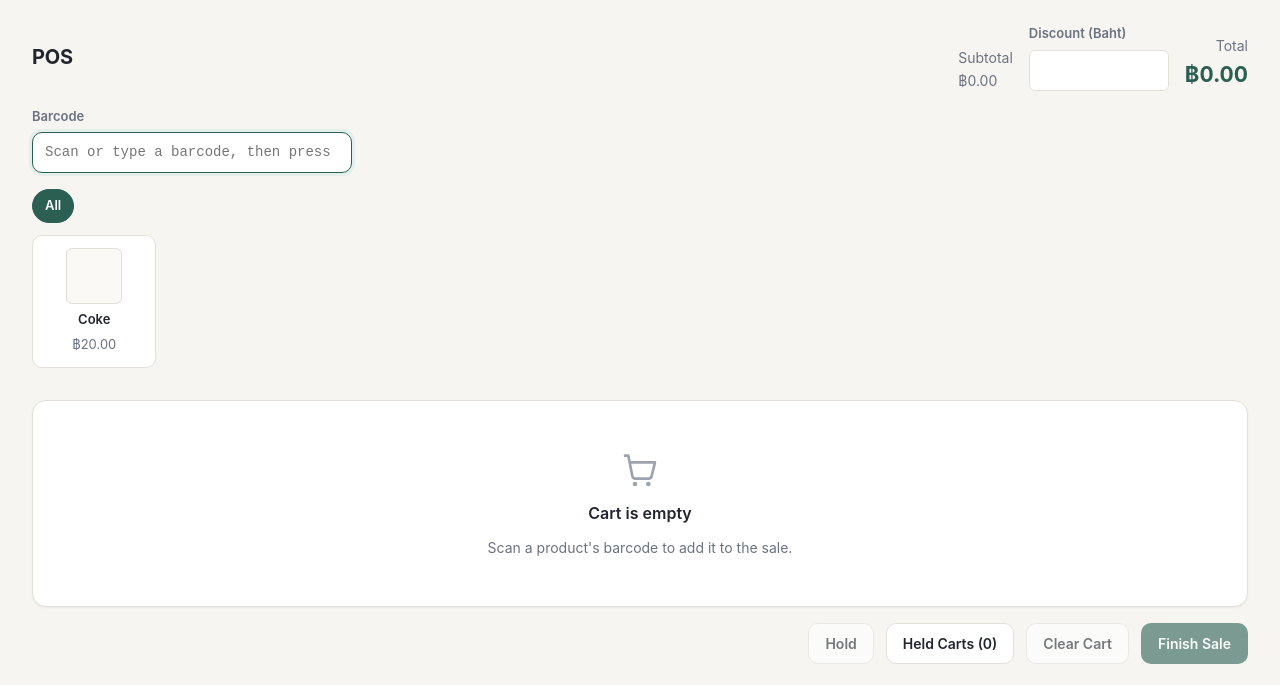
Test: PosPage › opens the payment method modal, then completes the sale, clears the cart, and shows a success message
This screenshot has width=1280, height=685.
Type "111" into the field labelled "Barcode" at (192, 152), box [32,132,352,173]
Then press Enter
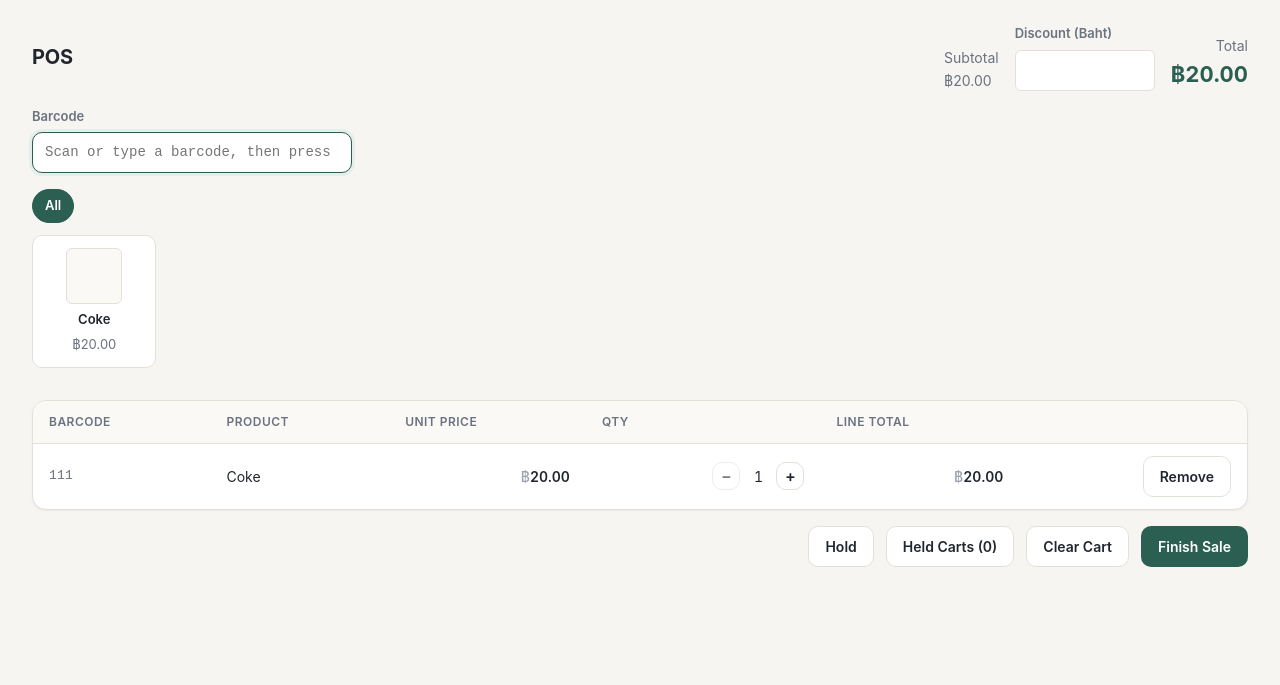
Result: the cell "Coke" is shown at [210,443,389,508]
Type "111" into the field labelled "Barcode" at (192, 152), box [32,132,352,173]
Then press Enter
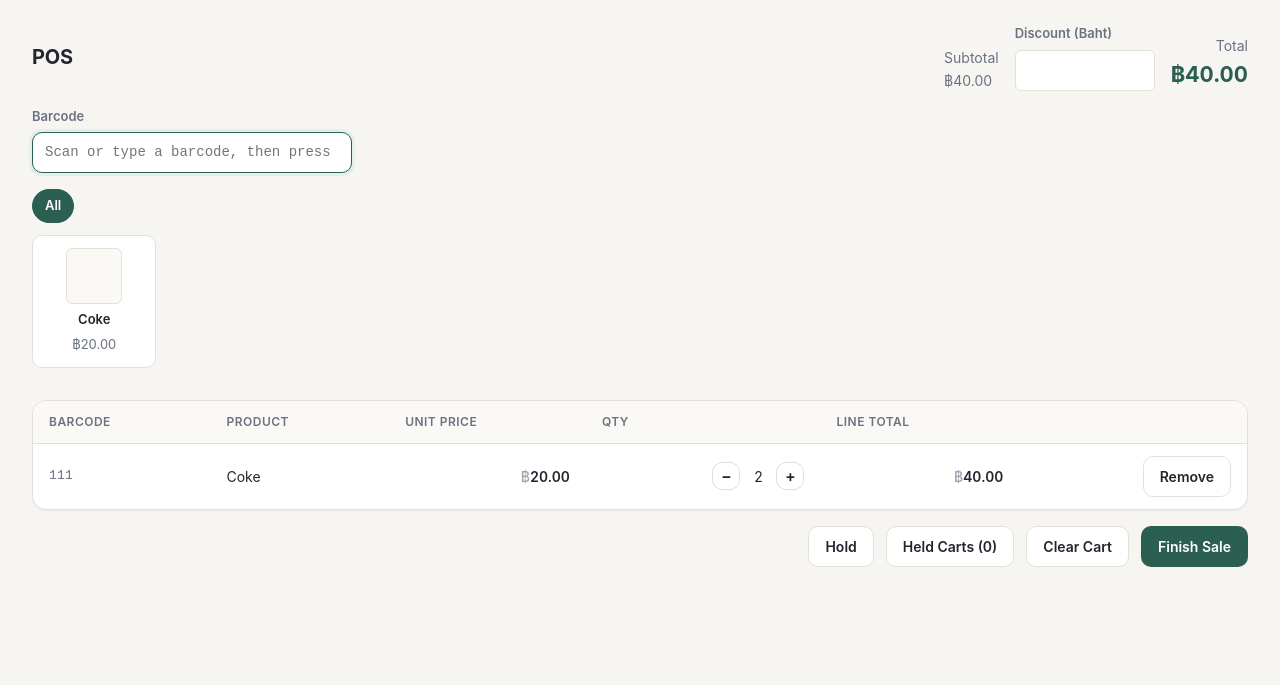
Result: the text named "Cart total" reads "฿40.00" at [1171,60,1248,86]
Click the button "Finish Sale" at (1194, 546), box [1141,526,1248,566]
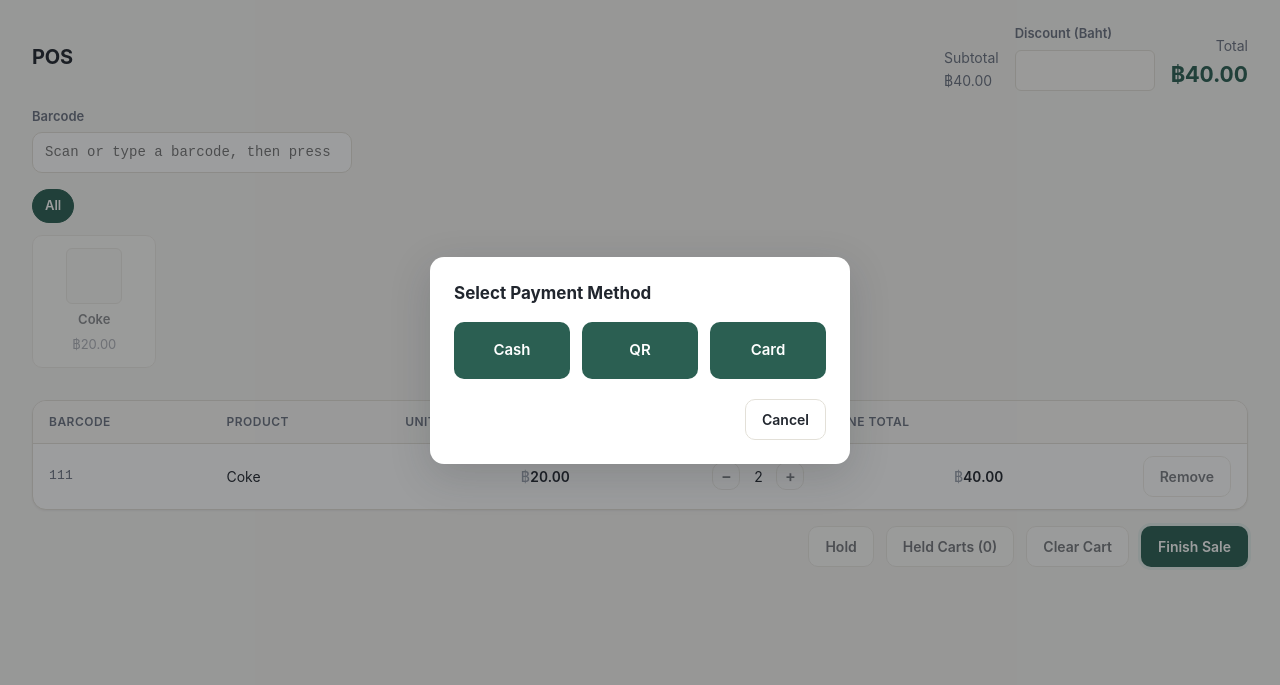
Result: the dialog is shown at [430,256,850,464]
Click the button "Cash" at (512, 350), box [454,322,570,378]
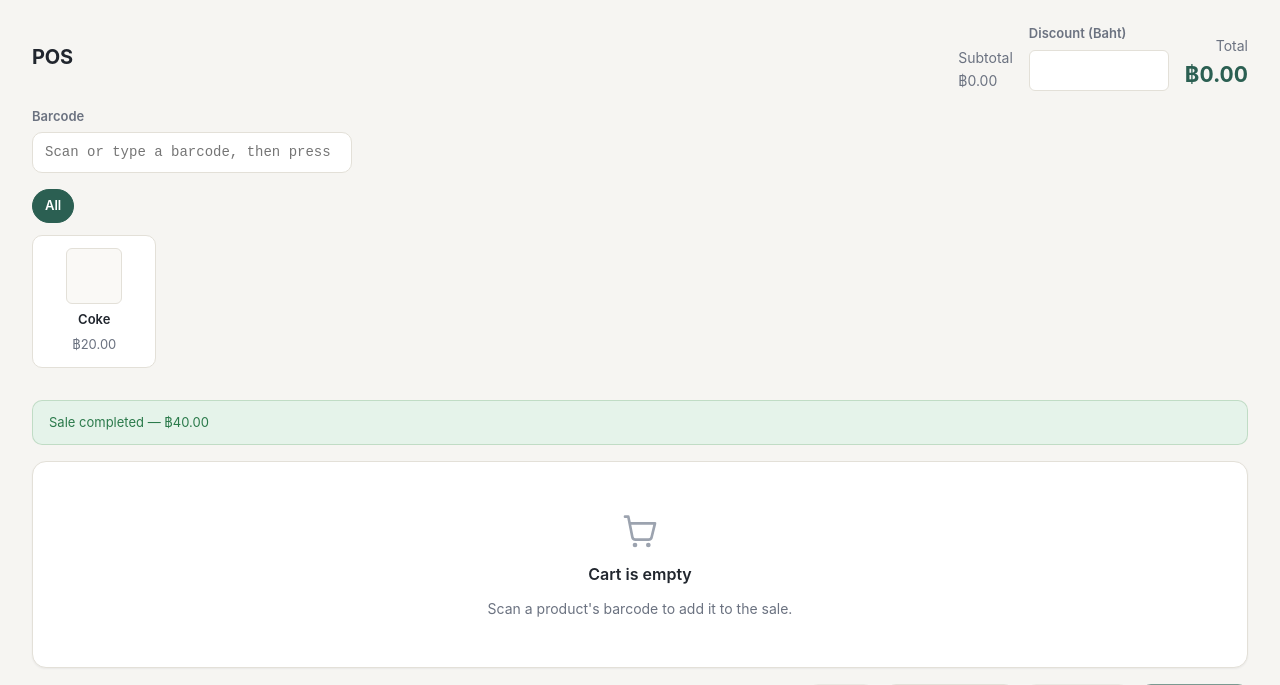
Result: the dialog is gone
Result: the heading "Cart is empty" is shown at [588,562,692,586]
Result: the message shows "฿40.00" at [49,414,209,430]
